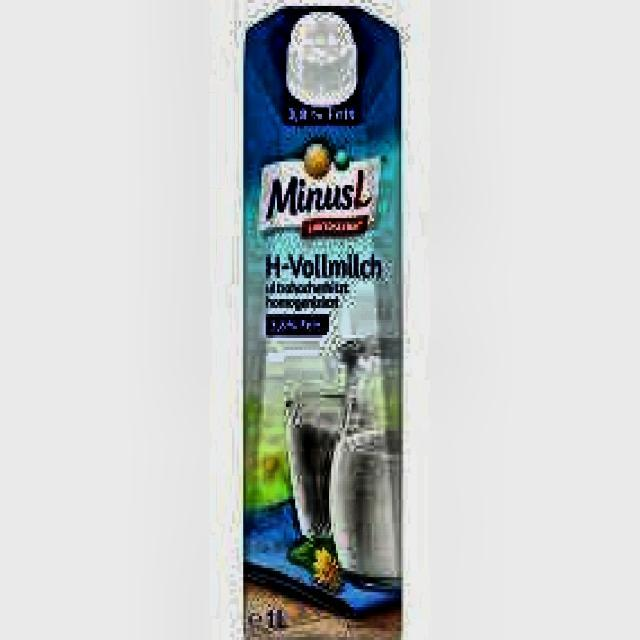cardboard: (241, 0, 404, 637)
